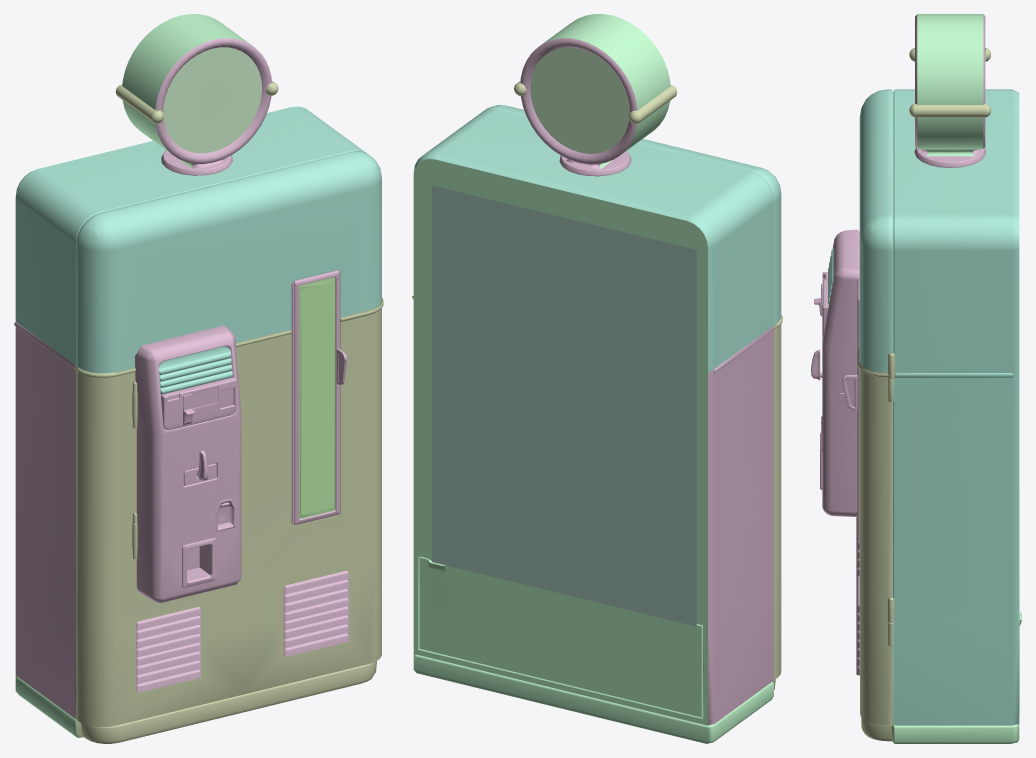
The model's file is Speed Cola.fbx.
3 views of the same model, side by side, from view 1: azimuth 30°, elevation 25°; view 2: azimuth 150°, elevation 25°; view 3: azimuth 270°, elevation 25° (orthographic).
Parts seen in each view (by area): view 1: mc_mtl_p7_zm_vending_speedcola_mc_mtl_p7_zm_vending_sleight_ (×5), mc_mtl_p7_zm_vending_speedcola_mc_mtl_p7_zm_vending_sleight; view 2: mc_mtl_p7_zm_vending_speedcola_mc_mtl_p7_zm_vending_sleight_ (×5), mc_mtl_p7_zm_vending_speedcola_mc_mtl_p7_zm_vending_sleight; view 3: mc_mtl_p7_zm_vending_speedcola_mc_mtl_p7_zm_vending_sleight_ (×3), mc_mtl_p7_zm_vending_speedcola_mc_mtl_p7_zm_vending_sleight.
Part boxes in pixels (x1,y1,x2,y2): mc_mtl_p7_zm_vending_speedcola_mc_mtl_p7_zm_vending_sleight_ (×5): (14,14,381,737); mc_mtl_p7_zm_vending_speedcola_mc_mtl_p7_zm_vending_sleight: (75,80,383,743); mc_mtl_p7_zm_vending_speedcola_mc_mtl_p7_zm_vending_sleight_ (×5): (413,14,781,743); mc_mtl_p7_zm_vending_speedcola_mc_mtl_p7_zm_vending_sleight: (412,81,782,689); mc_mtl_p7_zm_vending_speedcola_mc_mtl_p7_zm_vending_sleight_ (×3): (811,14,1021,743); mc_mtl_p7_zm_vending_speedcola_mc_mtl_p7_zm_vending_sleight: (858,47,990,742).
Size of the model in its own units: 5158 by 10582 by 3104.
